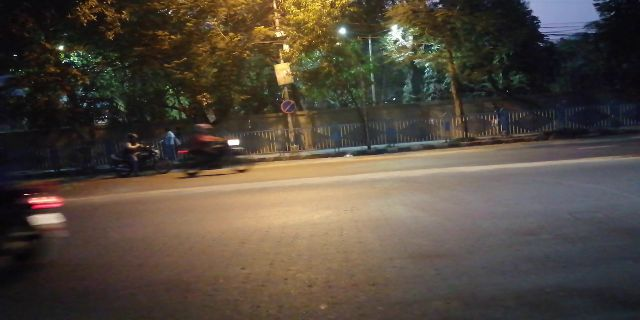Motorbike: (180, 125, 254, 178), (96, 134, 164, 177)
